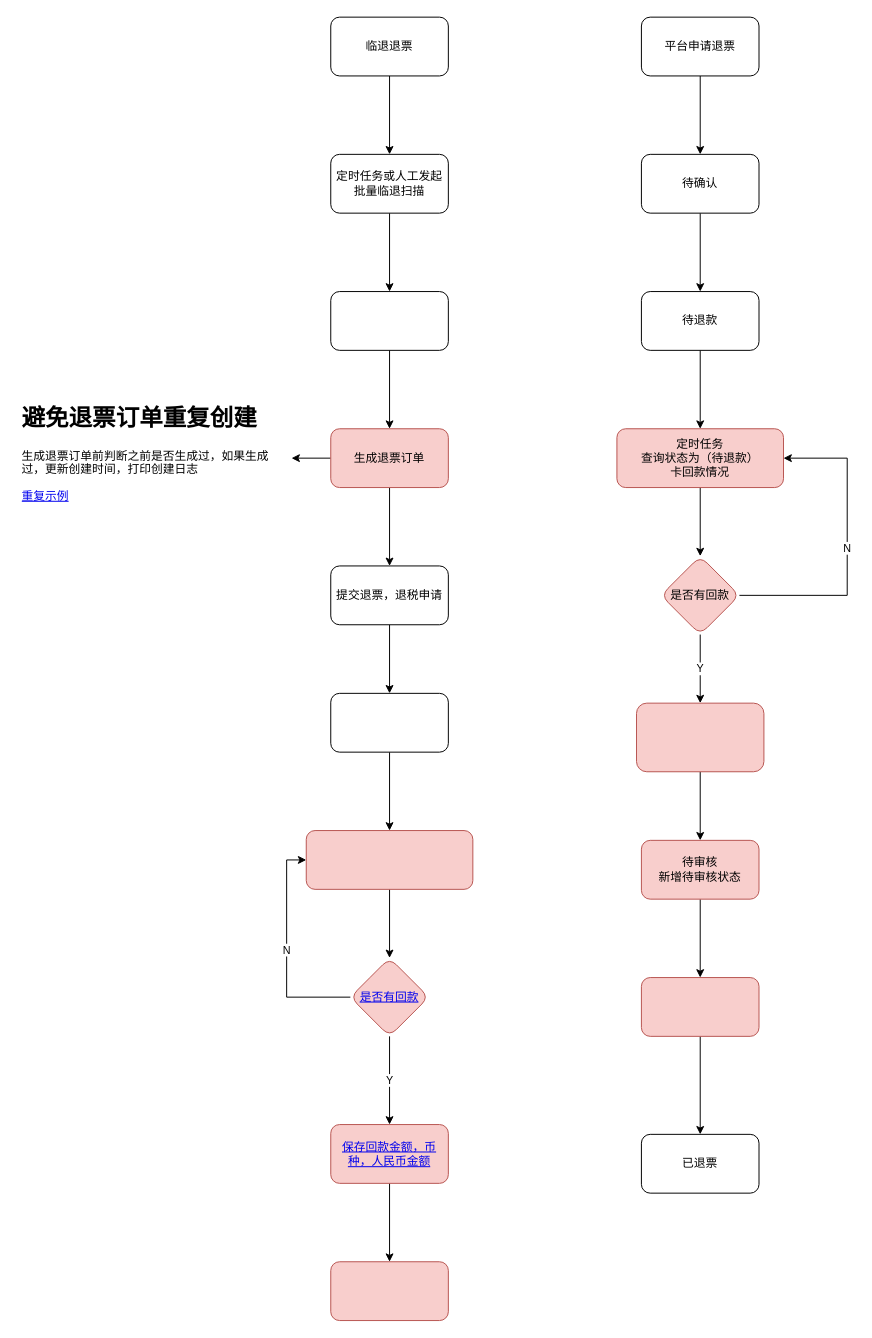
Image size: 872x1338. Some labels were removed from this diagram. The shapes that lost their labels are listed below. From the top down, each one's centre as x and y in pixels, then its label:
At (389,320): "未乘机，可申请退票或退税".
At (389,722): "退票成功（待回款）".
At (700,737): "退票订单内 保存回款金额，币种，人民币金额".
At (389,859): "定时任务 查询状态为 （ TW待回款 ）( FD退税成功 ) 卡回款情况".
At (699,1006): "人工审核完成，输入实退（待退）金额".
At (389,1291): "状态变更 退票成功（已回款）".
